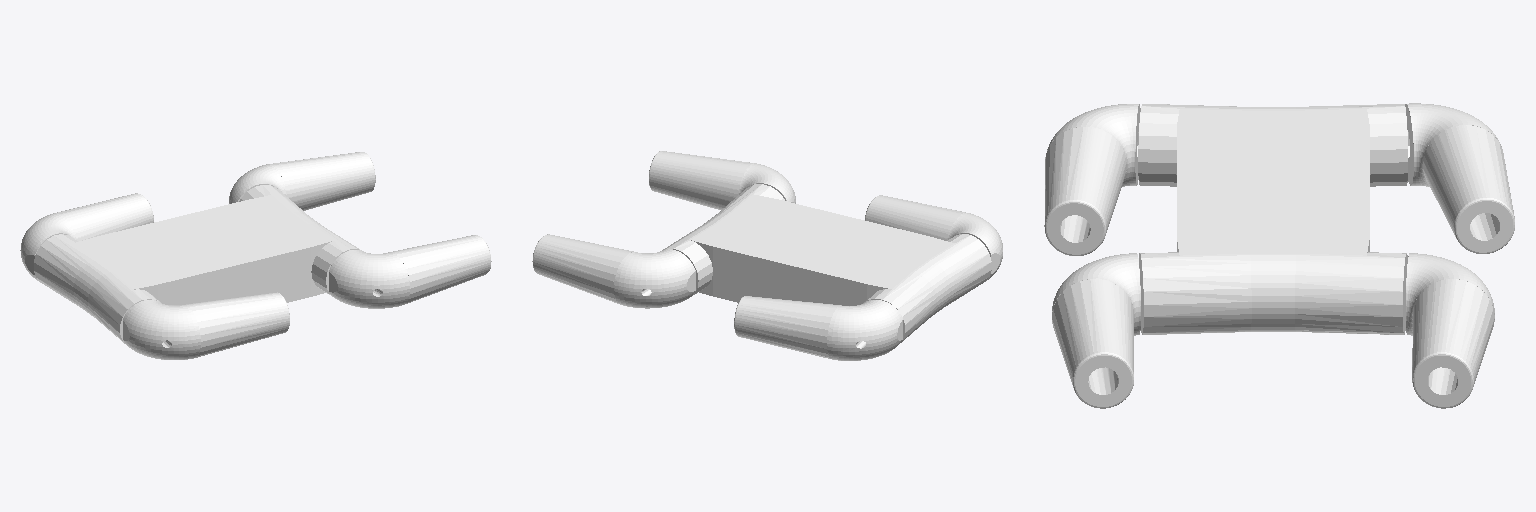
URDF robot description (4_degree):
<?xml version="1.0" encoding="utf-8"?>
<!-- This URDF was automatically created by SolidWorks to URDF Exporter! Originally created by [author] ([email redacted]) 
     Commit Version: 1.5.1-0-g916b5db  Build Version: 1.5.7152.31018
     For more information, please see http://wiki.ros.org/sw_urdf_exporter -->
<robot
  name="4_degree">
  <link
    name="base_link">
    <inertial>
      <origin
        xyz="-2.7756E-17 1.1592E-08 3.4694E-18"
        rpy="0 0 0" />
      <mass
        value="2.942" />
      <inertia
        ixx="0.0102925"
        ixy="-2.6968E-20"
        ixz="-1.4976E-10"
        iyy="0.0386304"
        iyz="1.2325E-19"
        izz="0.0465355" />
    </inertial>
    <visual>
      <origin
        xyz="0 0 0"
        rpy="0 0 0" />
      <geometry>
        <mesh
          filename="package://4_degree/meshes/base_link.STL" />
      </geometry>
      <material
        name="">
        <color
          rgba="1 1 1 1" />
      </material>
    </visual>
    <collision>
      <origin
        xyz="0 0 0"
        rpy="0 0 0" />
      <geometry>
        <mesh
          filename="package://4_degree/meshes/base_link.STL" />
      </geometry>
    </collision>
  </link>
  <link
    name="left_front_link">
    <inertial>
      <origin
        xyz="-2.6147E-08 0.05683 -0.036011"
        rpy="0 0 0" />
      <mass
        value="0.092" />
      <inertia
        ixx="0.0002604"
        ixy="5.8899E-10"
        ixz="9.3094E-10"
        iyy="0.0000526"
        iyz="2.27E-05"
        izz="0.0002575" />
    </inertial>
    <visual>
      <origin
        xyz="0 0 0"
        rpy="0 0 0" />
      <geometry>
        <mesh
          filename="package://4_degree/meshes/left_front_link.STL" />
      </geometry>
      <material
        name="">
        <color
          rgba="1 1 1 1" />
      </material>
    </visual>
    <collision>
      <origin
        xyz="0 0 0"
        rpy="0 0 0" />
      <geometry>
        <mesh
          filename="package://4_degree/meshes/left_front_link.STL" />
      </geometry>
    </collision>
  </link>
  <joint
    name="left_front_leg"
    type="continuous">
    <origin
      xyz="0.13718 0.10275 0"
      rpy="1.6406 1.5708 0" />
    <parent
      link="base_link" />
    <child
      link="left_front_link" />
    <axis
      xyz="0 0 -1" />
    <limit
      effort="5"
      velocity="487" />
  </joint>
  <link
    name="right_front_link">
    <inertial>
      <origin
        xyz="2.6147E-08 0.05683 0.036011"
        rpy="0 0 0" />
      <mass
        value="0.092" />
      <inertia
        ixx="0.0002604"
        ixy="-5.8899E-10"
        ixz="9.3094E-10"
        iyy="0.0000526"
        iyz="-2.27E-05"
        izz="0.0002575" />
    </inertial>
    <visual>
      <origin
        xyz="0 0 0"
        rpy="0 0 0" />
      <geometry>
        <mesh
          filename="package://4_degree/meshes/right_front_link.STL" />
      </geometry>
      <material
        name="">
        <color
          rgba="1 1 1 1" />
      </material>
    </visual>
    <collision>
      <origin
        xyz="0 0 0"
        rpy="0 0 0" />
      <geometry>
        <mesh
          filename="package://4_degree/meshes/right_front_link.STL" />
      </geometry>
    </collision>
  </link>
  <joint
    name="right_front_leg"
    type="continuous">
    <origin
      xyz="0.13718 -0.10275 0"
      rpy="1.501 1.5708 0" />
    <parent
      link="base_link" />
    <child
      link="right_front_link" />
    <axis
      xyz="0 0 1" />
    <limit
      effort="5"
      velocity="487" />
  </joint>
  <link
    name="right_back_link">
    <inertial>
      <origin
        xyz="6.6001E-09 0.05683 0.03601"
        rpy="0 0 0" />
      <mass
        value="0.092" />
      <inertia
        ixx="0.0002604"
        ixy="-6.7247E-10"
        ixz="6.8674E-10"
        iyy="0.0000526"
        iyz="-2.27E-05"
        izz="0.0002575" />
    </inertial>
    <visual>
      <origin
        xyz="0 0 0"
        rpy="0 0 0" />
      <geometry>
        <mesh
          filename="package://4_degree/meshes/right_back_link.STL" />
      </geometry>
      <material
        name="">
        <color
          rgba="1 1 1 1" />
      </material>
    </visual>
    <collision>
      <origin
        xyz="0 0 0"
        rpy="0 0 0" />
      <geometry>
        <mesh
          filename="package://4_degree/meshes/right_back_link.STL" />
      </geometry>
    </collision>
  </link>
  <joint
    name="right_back_leg"
    type="continuous">
    <origin
      xyz="-0.13718 -0.10275 0"
      rpy="1.6406 1.5708 0" />
    <parent
      link="base_link" />
    <child
      link="right_back_link" />
    <axis
      xyz="0 0 1" />
    <limit
      effort="5"
      velocity="487" />
  </joint>
  <link
    name="left_back_link">
    <inertial>
      <origin
        xyz="-6.6001E-09 0.05683 -0.03601"
        rpy="0 0 0" />
      <mass
        value="0.092" />
      <inertia
        ixx="0.0002604"
        ixy="6.7247E-10"
        ixz="6.8674E-10"
        iyy="0.0000526"
        iyz="2.27E-05"
        izz="0.0002575" />
    </inertial>
    <visual>
      <origin
        xyz="0 0 0"
        rpy="0 0 0" />
      <geometry>
        <mesh
          filename="package://4_degree/meshes/left_back_link.STL" />
      </geometry>
      <material
        name="">
        <color
          rgba="1 1 1 1" />
      </material>
    </visual>
    <collision>
      <origin
        xyz="0 0 0"
        rpy="0 0 0" />
      <geometry>
        <mesh
          filename="package://4_degree/meshes/left_back_link.STL" />
      </geometry>
    </collision>
  </link>
  <joint
    name="left_back_leg"
    type="continuous">
    <origin
      xyz="-0.13718 0.10275 0"
      rpy="1.501 1.5708 0" />
    <parent
      link="base_link" />
    <child
      link="left_back_link" />
    <axis
      xyz="0 0 -1" />
    <limit
      effort="5"
      velocity="487" />
  </joint>
</robot>

--- Facts derived from the render (not from the file) ---
Views: 3 orthographic renders of the robot side by side, from view 1: azimuth 30°, elevation 25°; view 2: azimuth 150°, elevation 25°; view 3: azimuth 270°, elevation 25°.
Robot: 4_degree — 5 links, 4 joints (4 continuous); root link base_link; default pose: all joints at 0.
Visible links, largest first — view 1: base_link, right_back_link, right_front_link, left_front_link, left_back_link; view 2: base_link, left_back_link, left_front_link, right_front_link, right_back_link; view 3: base_link, left_back_link, right_back_link, left_front_link, right_front_link.
Link boxes in pixels (box(x1,y1,x2,y2)): base_link: box(34, 185, 363, 343); right_back_link: box(123, 292, 289, 359); right_front_link: box(329, 235, 491, 308); left_front_link: box(229, 152, 375, 210); left_back_link: box(20, 193, 153, 282); base_link: box(663, 184, 991, 342); left_back_link: box(734, 296, 902, 360); left_front_link: box(532, 234, 695, 308); right_front_link: box(649, 151, 795, 209); right_back_link: box(865, 195, 1002, 281); base_link: box(1138, 104, 1407, 334); left_back_link: box(1405, 103, 1514, 253); right_back_link: box(1044, 104, 1140, 255); left_front_link: box(1406, 253, 1494, 408); right_front_link: box(1052, 253, 1140, 408).
Size in the robot's own frame: 0.4684 by 0.366 by 0.064 metres.
5 mesh visuals loaded from 5 distinct referenced files (5 binary STL).